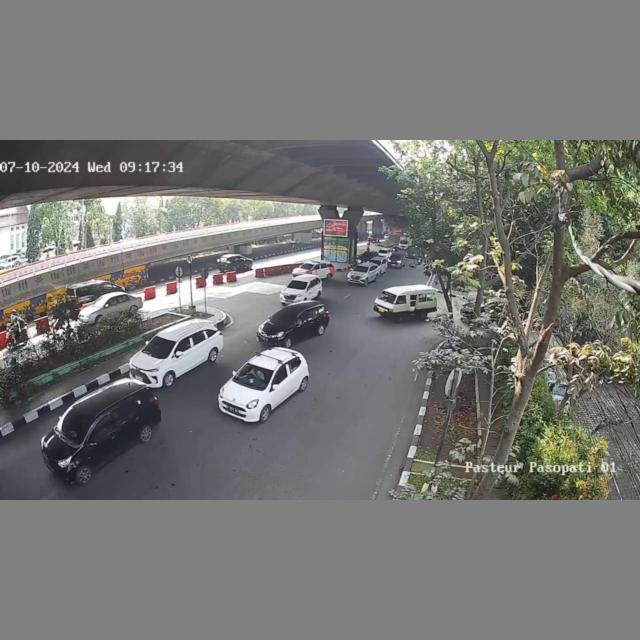windshield: (55, 412, 95, 442), (235, 361, 273, 388), (142, 336, 176, 359), (270, 312, 297, 326), (287, 280, 308, 290)
